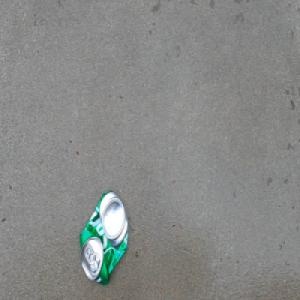SodaCan: (78, 188, 129, 287)
